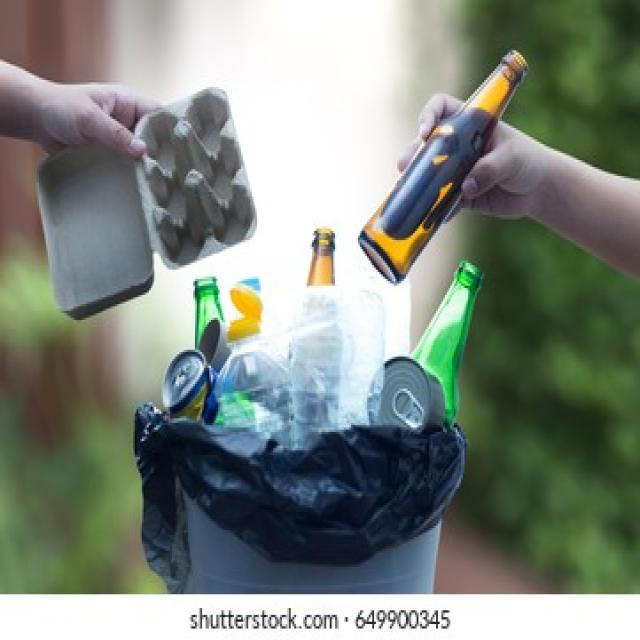glass: (374, 174, 438, 276), (413, 313, 472, 368)
metal: (388, 377, 433, 430), (169, 366, 202, 409)
plastic: (259, 338, 372, 428)
